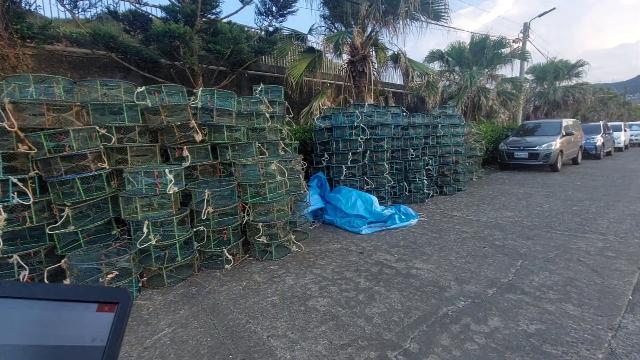pollute: (299, 172, 423, 237)
